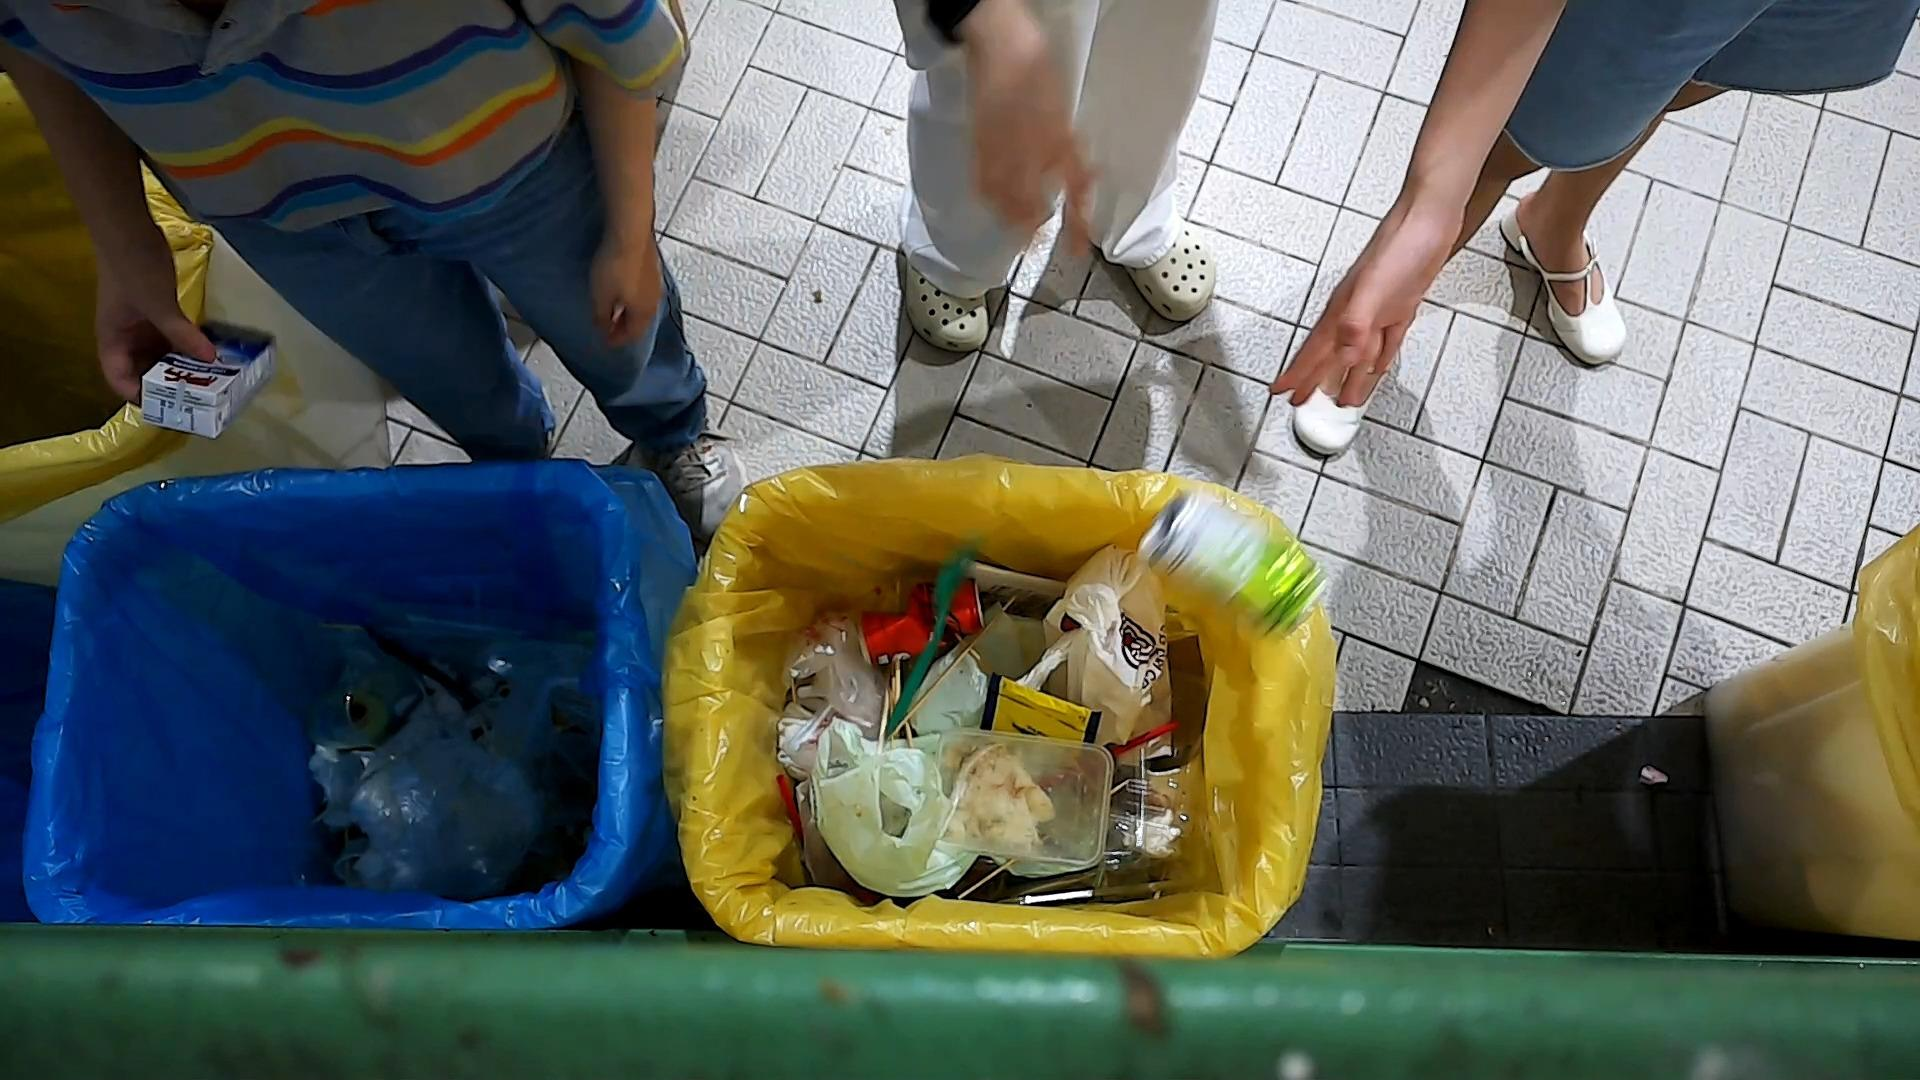can: (1130, 479, 1337, 649), (853, 572, 989, 673)
dirty food container: (931, 724, 1116, 876)
filled plastic bag: (1011, 538, 1182, 760), (802, 707, 989, 903)
milk carton: (136, 313, 284, 442)
plastic bag: (344, 654, 564, 906), (775, 597, 885, 748)
plastic cup: (301, 645, 433, 756)
plastic cutlery: (881, 533, 986, 742)
snack packaging: (978, 669, 1102, 745)
sticks: (956, 777, 1134, 901), (885, 593, 1019, 744), (305, 753, 398, 831)
straw: (1109, 717, 1185, 760), (773, 773, 807, 855)
